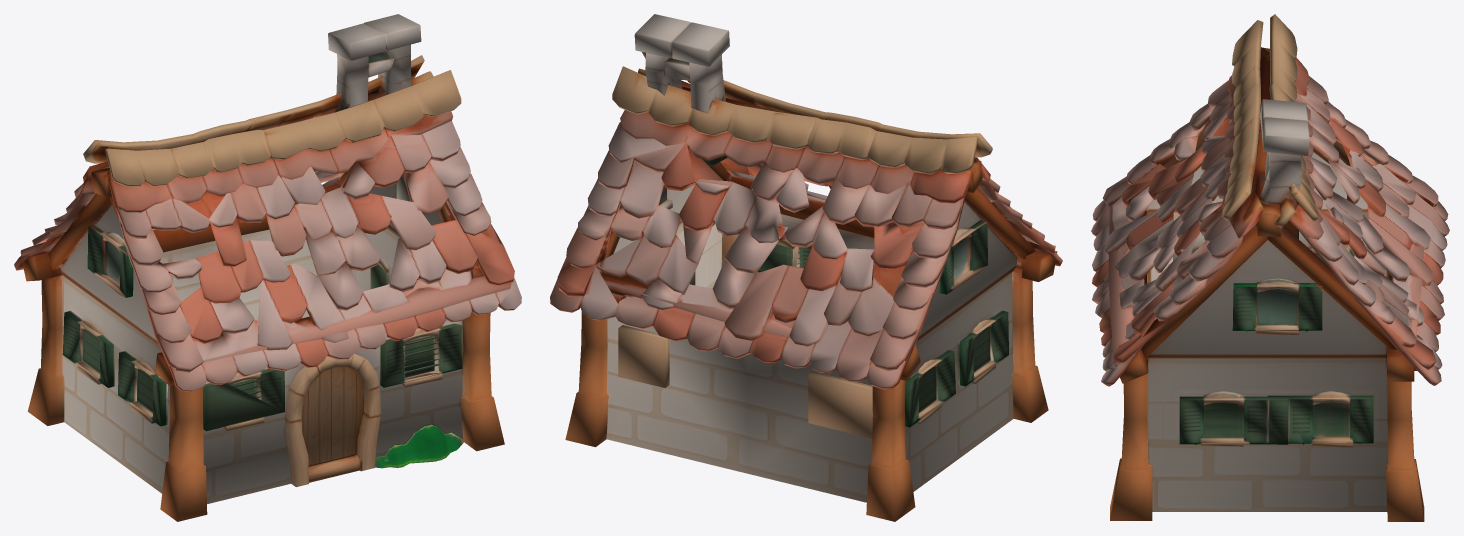
File: bld_house_a_v1.glb
3 renders of one model, left to right at view 1: azimuth 30°, elevation 25°; view 2: azimuth 150°, elevation 25°; view 3: azimuth 270°, elevation 25°, orthographic. The views are drawn at different scales.
Visible parts, largest first — view 1: tripo_node_655440da-4f89-42ca-99f5-3a57780a4919; view 2: tripo_node_655440da-4f89-42ca-99f5-3a57780a4919; view 3: tripo_node_655440da-4f89-42ca-99f5-3a57780a4919.
Part boxes in pixels (x1,y1,x2,y2): tripo_node_655440da-4f89-42ca-99f5-3a57780a4919: [14, 14, 521, 521]; tripo_node_655440da-4f89-42ca-99f5-3a57780a4919: [550, 14, 1062, 521]; tripo_node_655440da-4f89-42ca-99f5-3a57780a4919: [1091, 14, 1449, 521].
Bounding box in the file's own units: 0.9902 × 0.998 × 0.8457.
1 material, 1 textured.
